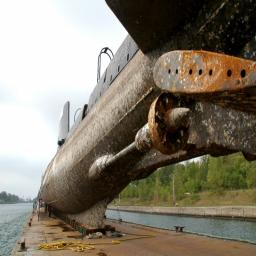submarine: (43, 2, 249, 213)
